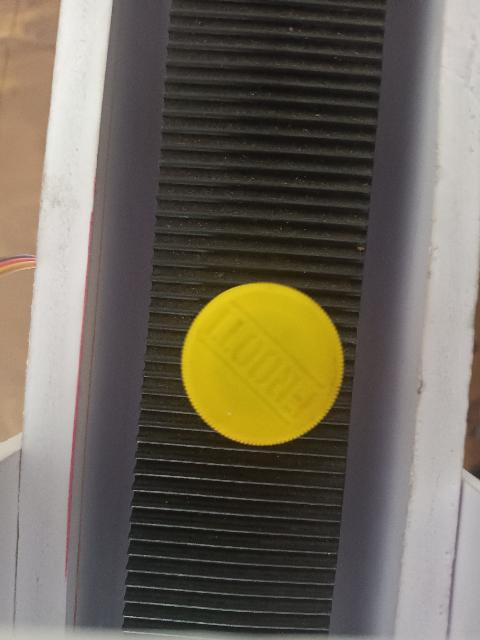bottlecap: (176, 278, 347, 450)
